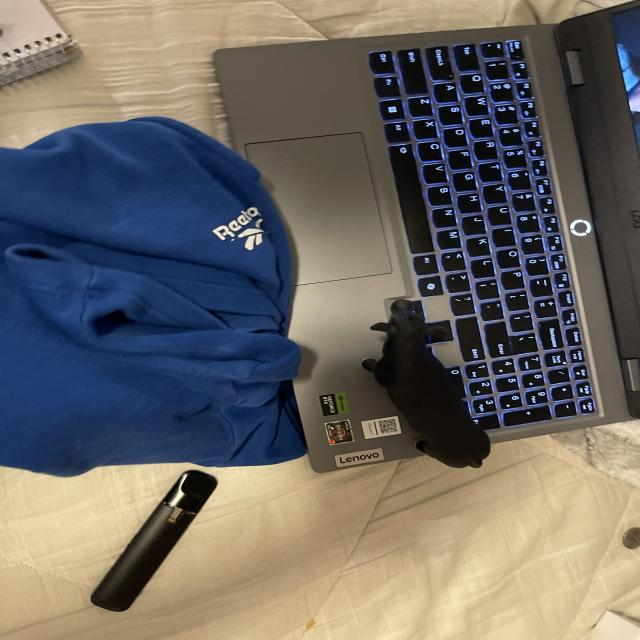cow: (343, 284, 520, 491)
